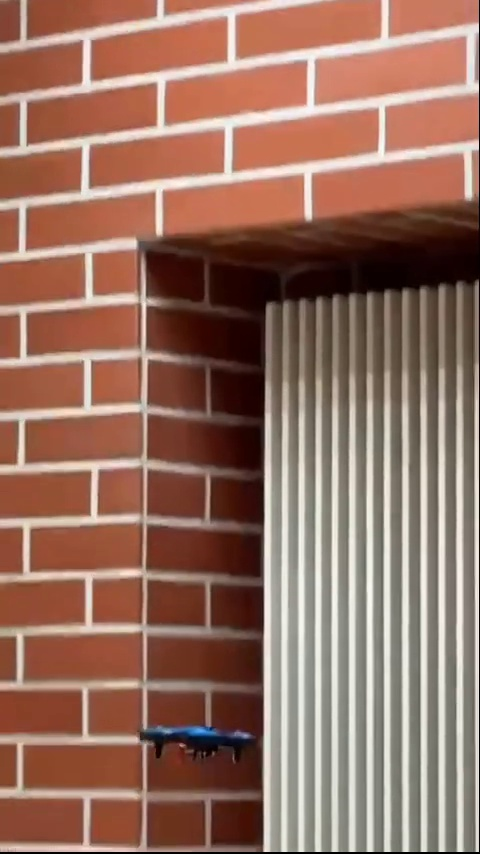drone: (131, 722, 251, 765)
